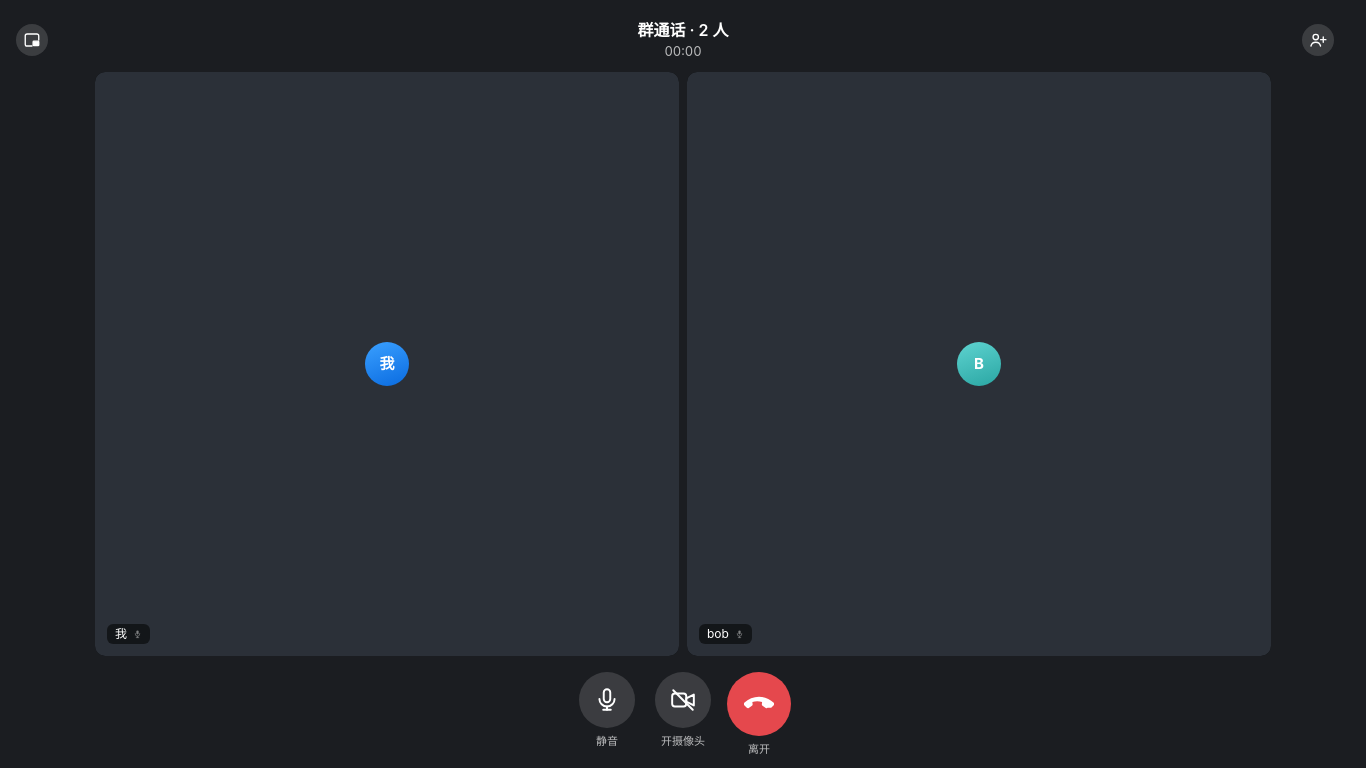
Test: 九宫格加人 › 选人 → 邀请：占位格立刻出现，帧随后发；已在通话中的人置灰不可选
The image size is (1366, 768).
Click the button with test id "invite-button": (1318, 40) [1302, 24, 1334, 56]
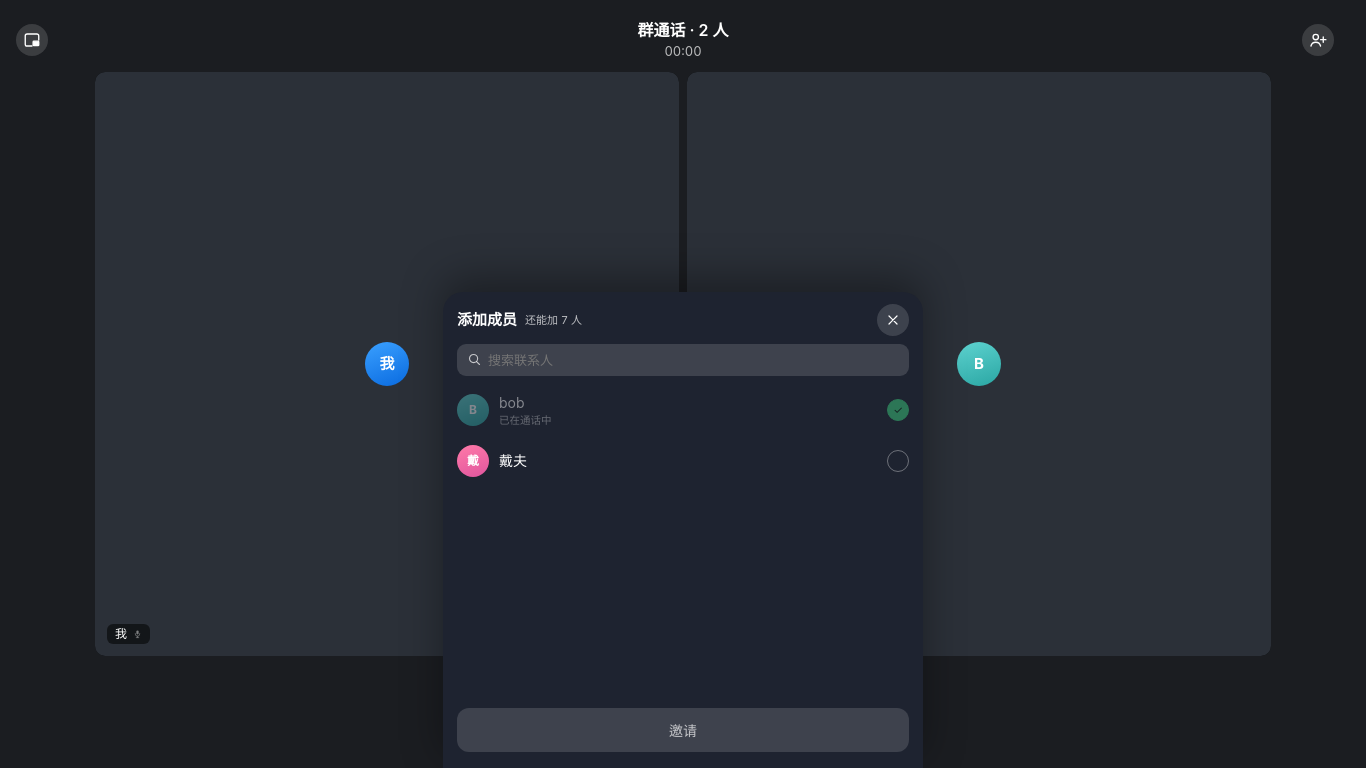
Check: the text with test id "invite-slots" reads "还能加 7 人", box [525, 313, 582, 327]
Check: the button with test id "invite-row-bob" shows "已在通话中", box [443, 384, 923, 437]
Click the button with test id "invite-row-dave": (473, 461) [443, 437, 923, 485]
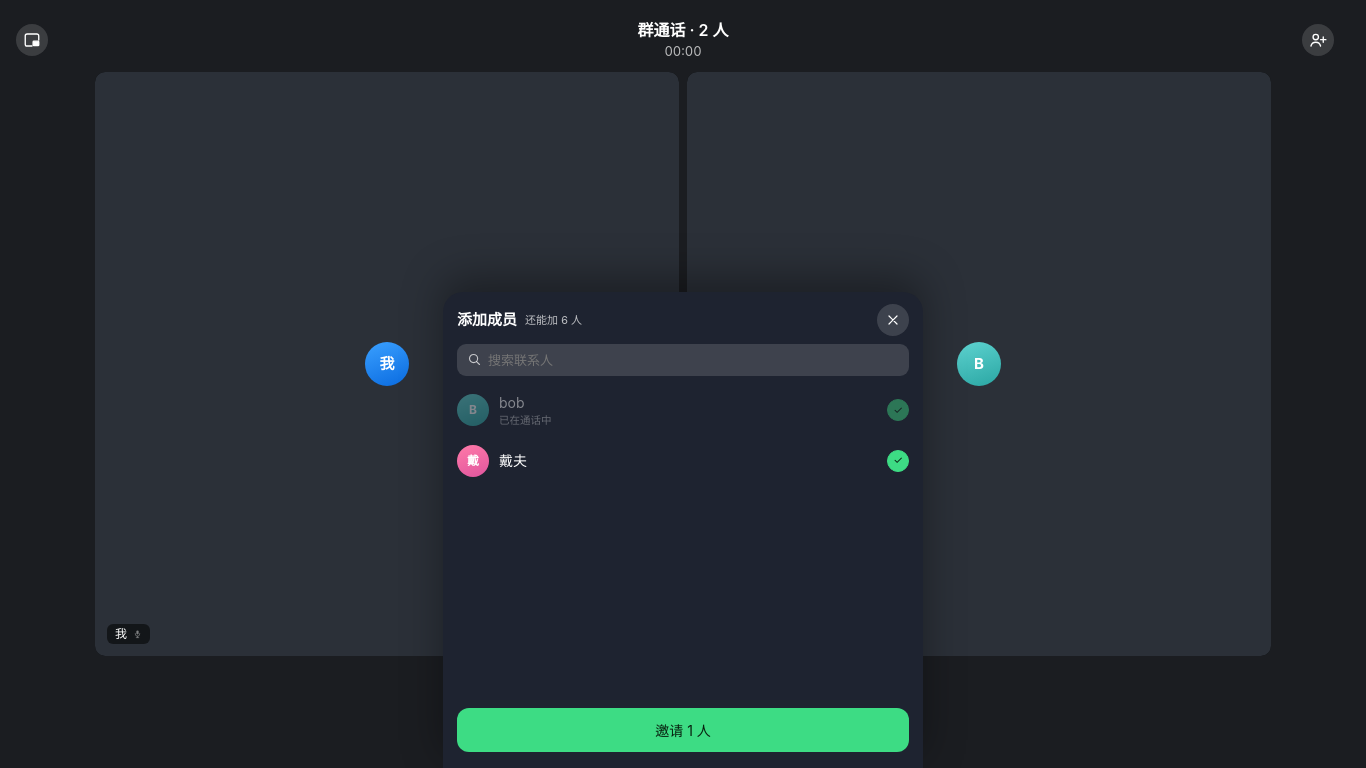
Check: the button with test id "invite-go" reads "邀请 1 人"
Click the button with test id "invite-go": (683, 730) [457, 708, 909, 752]
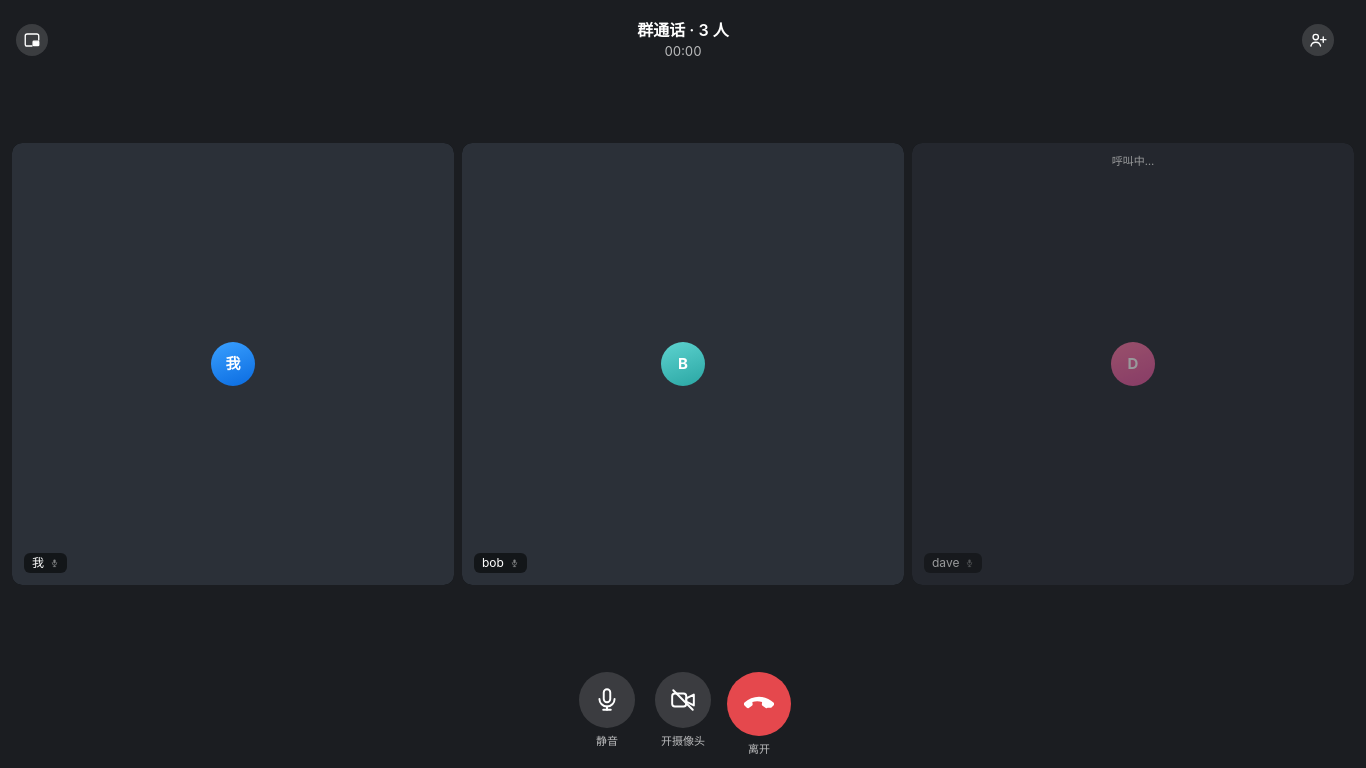
Check: the dialog with test id "invite-picker" is gone
Check: the text with test id "ringing-dave" reads "呼叫中…", box [1112, 154, 1154, 168]
